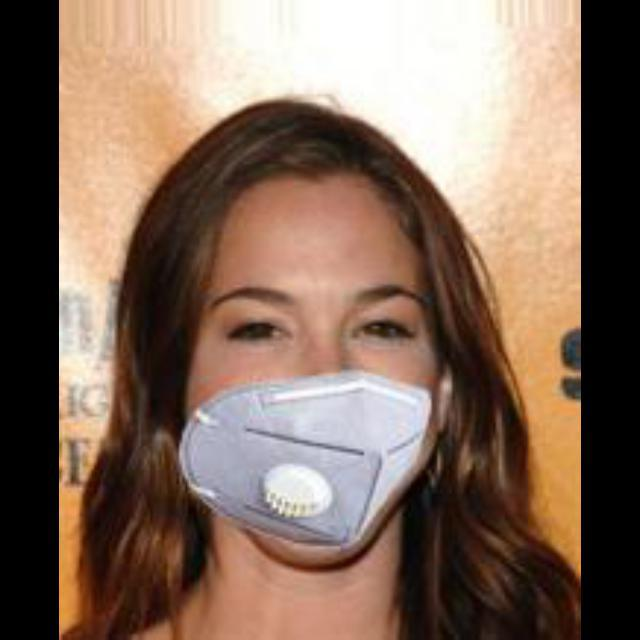suspicion: (192, 135, 530, 610)
